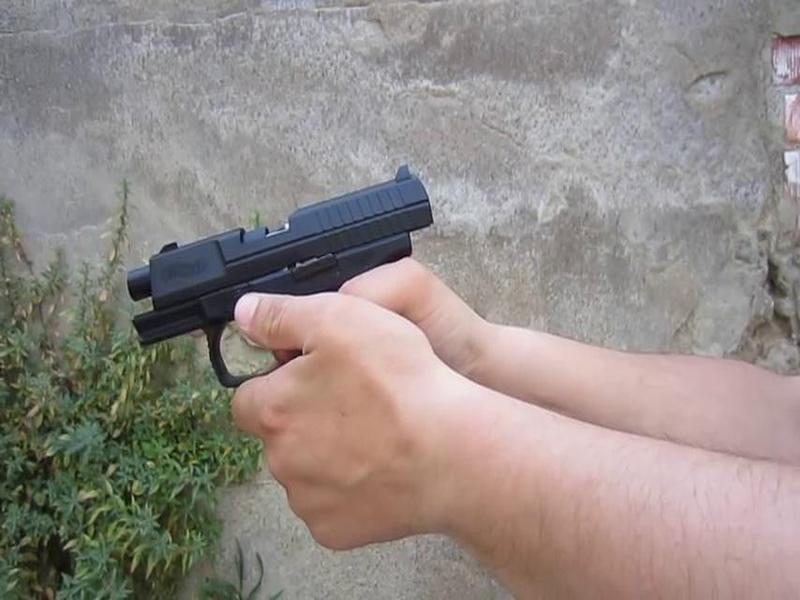Pistola: (102, 154, 419, 395)
